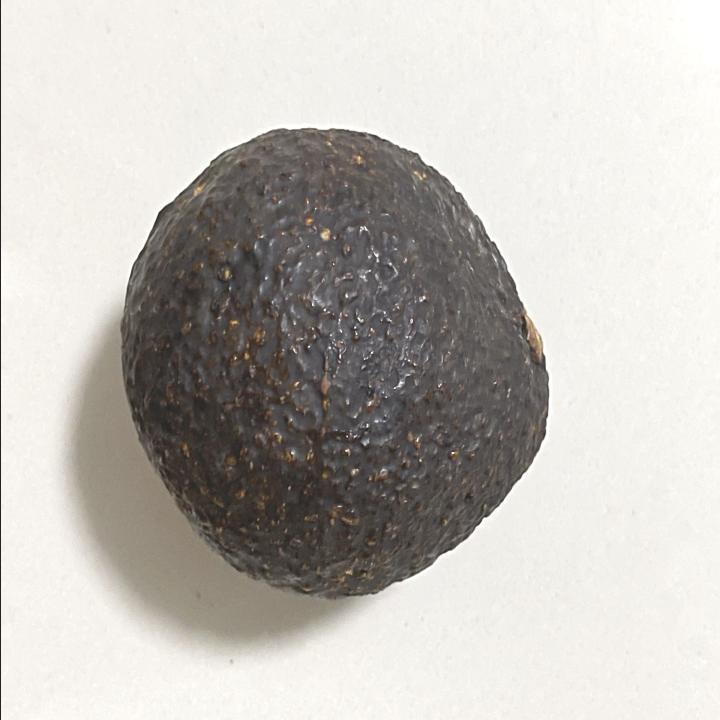Level3: (112, 114, 562, 610)
